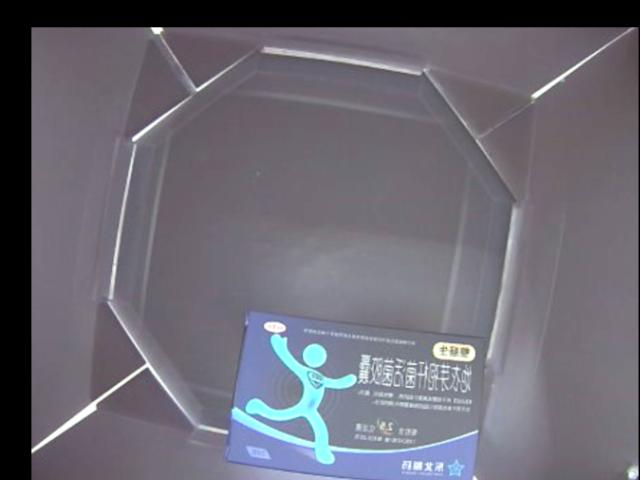Medicine: (224, 310, 482, 480)
